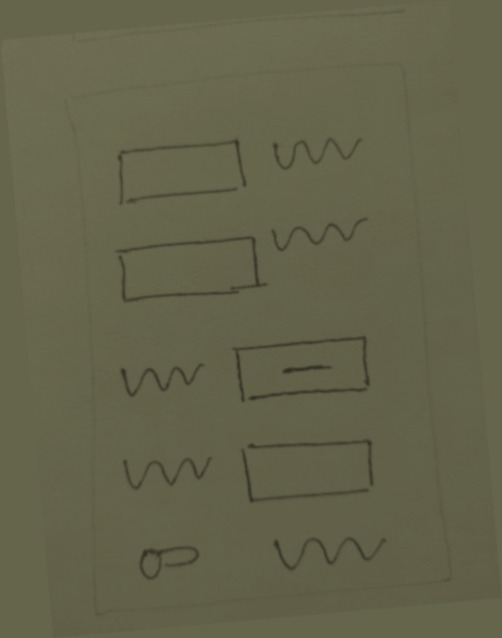button: (223, 324, 380, 410)
switch: (117, 529, 216, 588)
text: (251, 514, 399, 587), (112, 435, 225, 503), (109, 342, 213, 410), (260, 121, 370, 181), (260, 207, 377, 260)
text_input: (231, 419, 383, 522), (107, 225, 269, 312), (105, 129, 252, 215)
